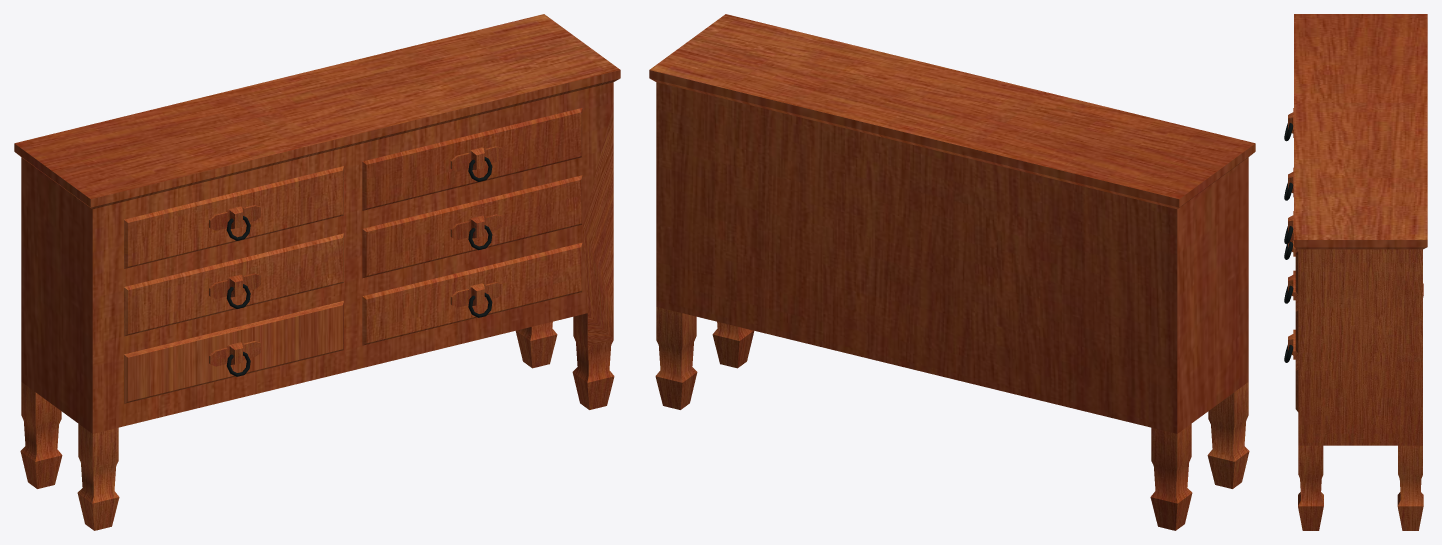
Rendered from Drawer.obj.
3 views of the same model, side by side, from view 1: azimuth 30°, elevation 25°; view 2: azimuth 150°, elevation 25°; view 3: azimuth 270°, elevation 25° (orthographic). The views are drawn at different scales.
Parts seen in each view (by area): view 1: Mesh; view 2: Mesh; view 3: Mesh.
Part boxes in pixels (x1,y1,x2,y2): Mesh: (14,14,620,530); Mesh: (649,14,1255,530); Mesh: (1284,14,1427,530).
Size of the model in its own units: 1 by 0.6085 by 0.2678.
